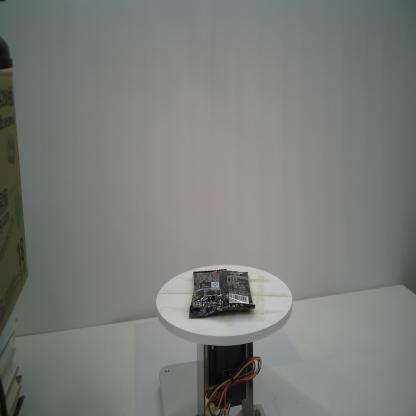Instant Drink: (189, 269, 256, 319)
